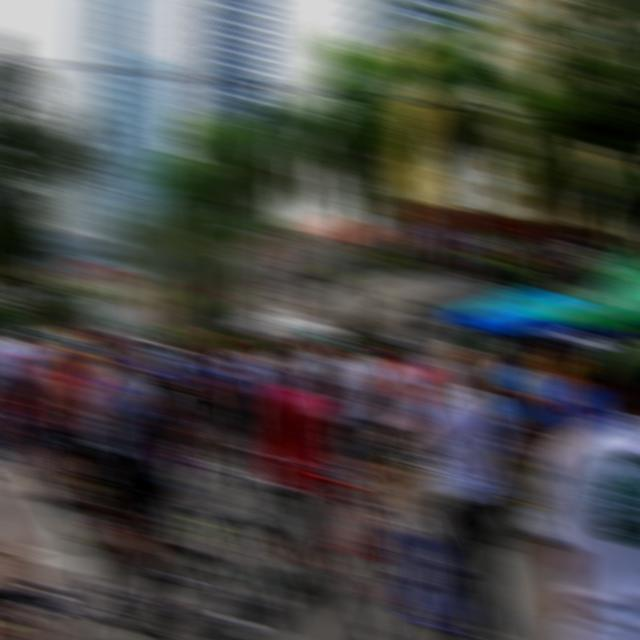With Helmet: (123, 356, 170, 406), (199, 328, 236, 366)
Without Helmet: (283, 348, 330, 393)
